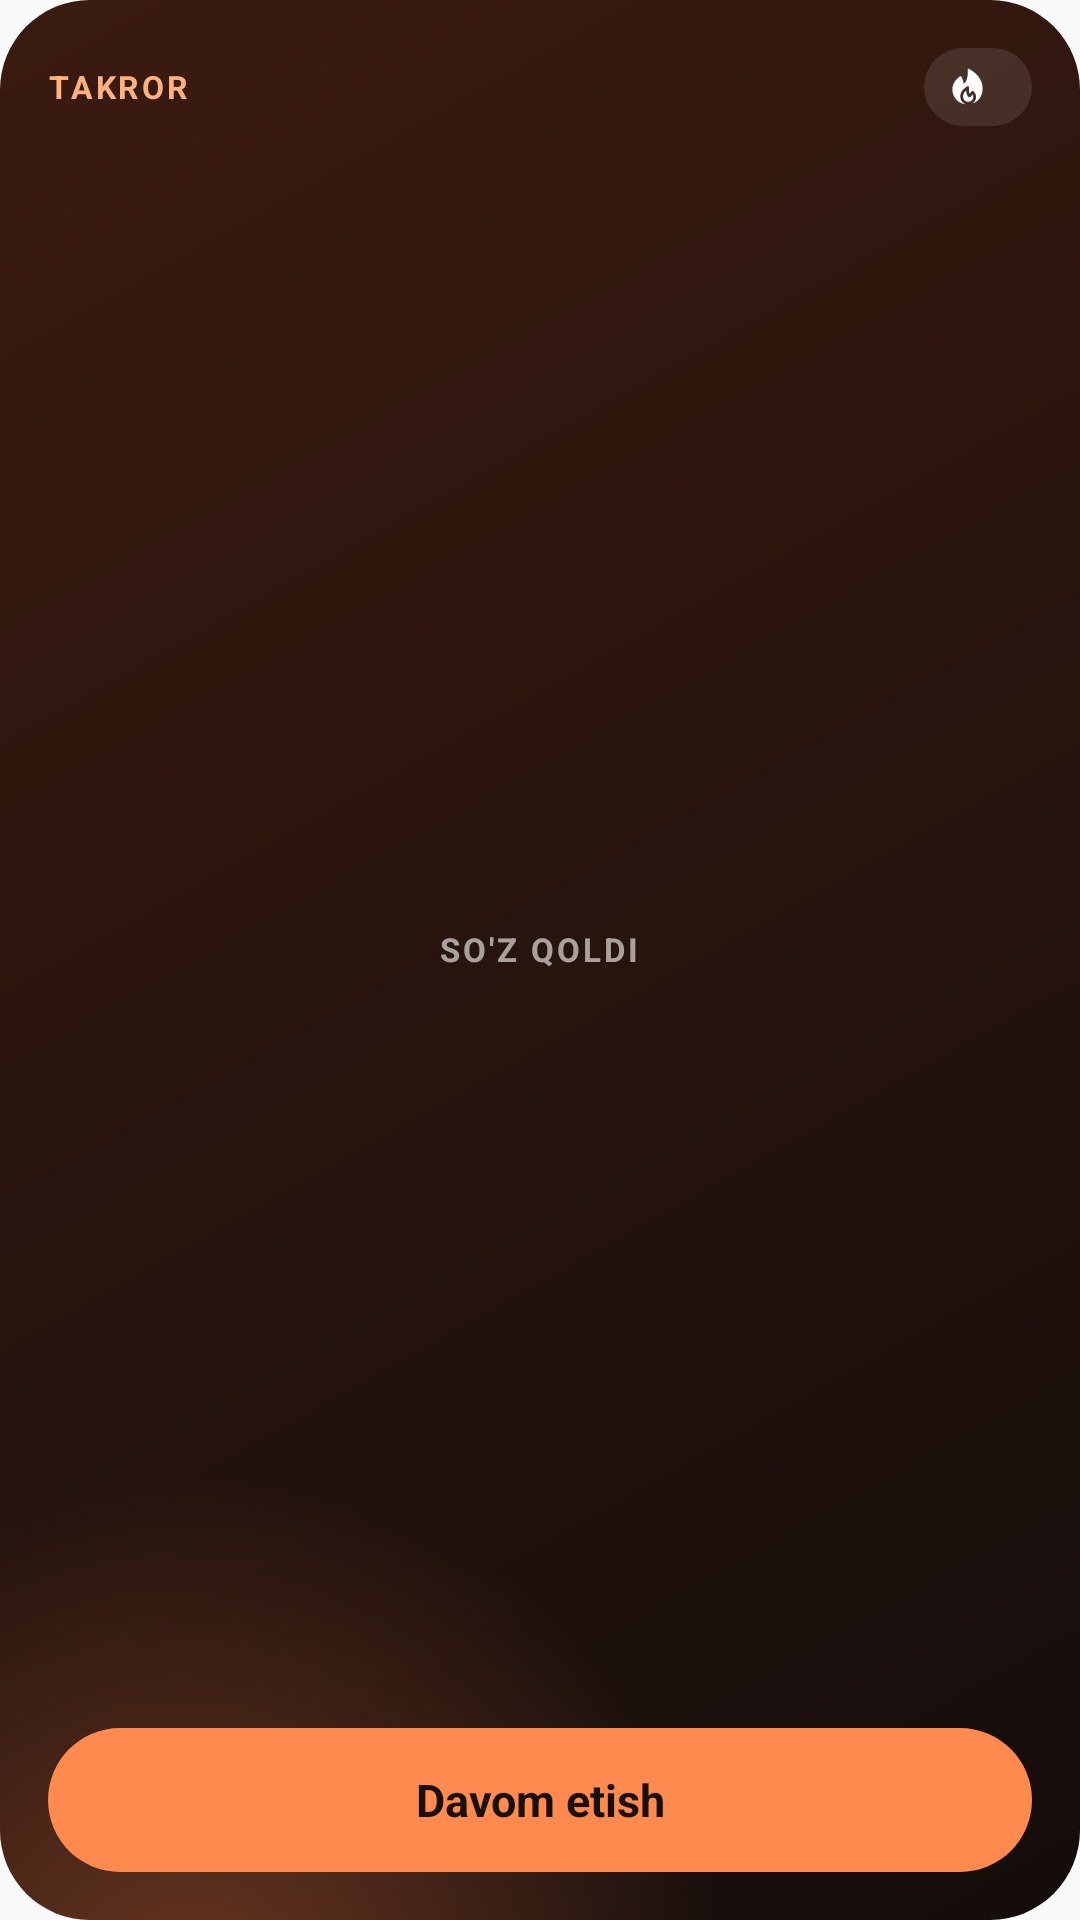

Locate icon controls on the screen. Image size 1080*1920, boxes as (x1, y1, x2, y2).
fire: (952, 68, 983, 105)
